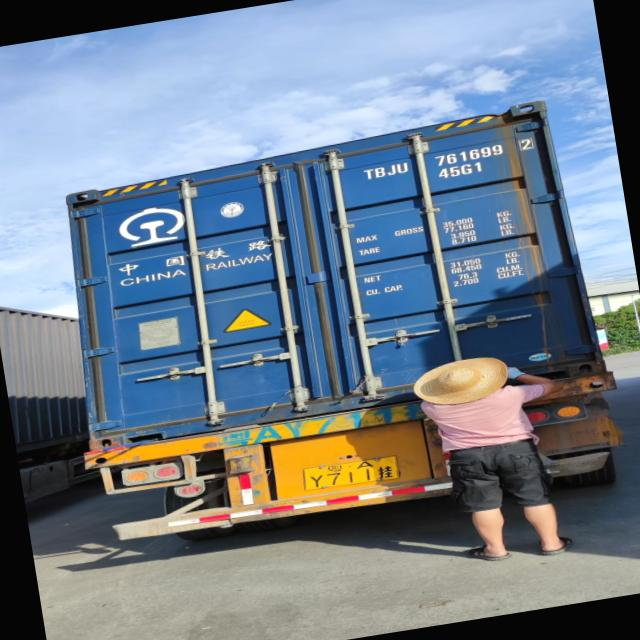seal: (390, 324, 412, 351)
